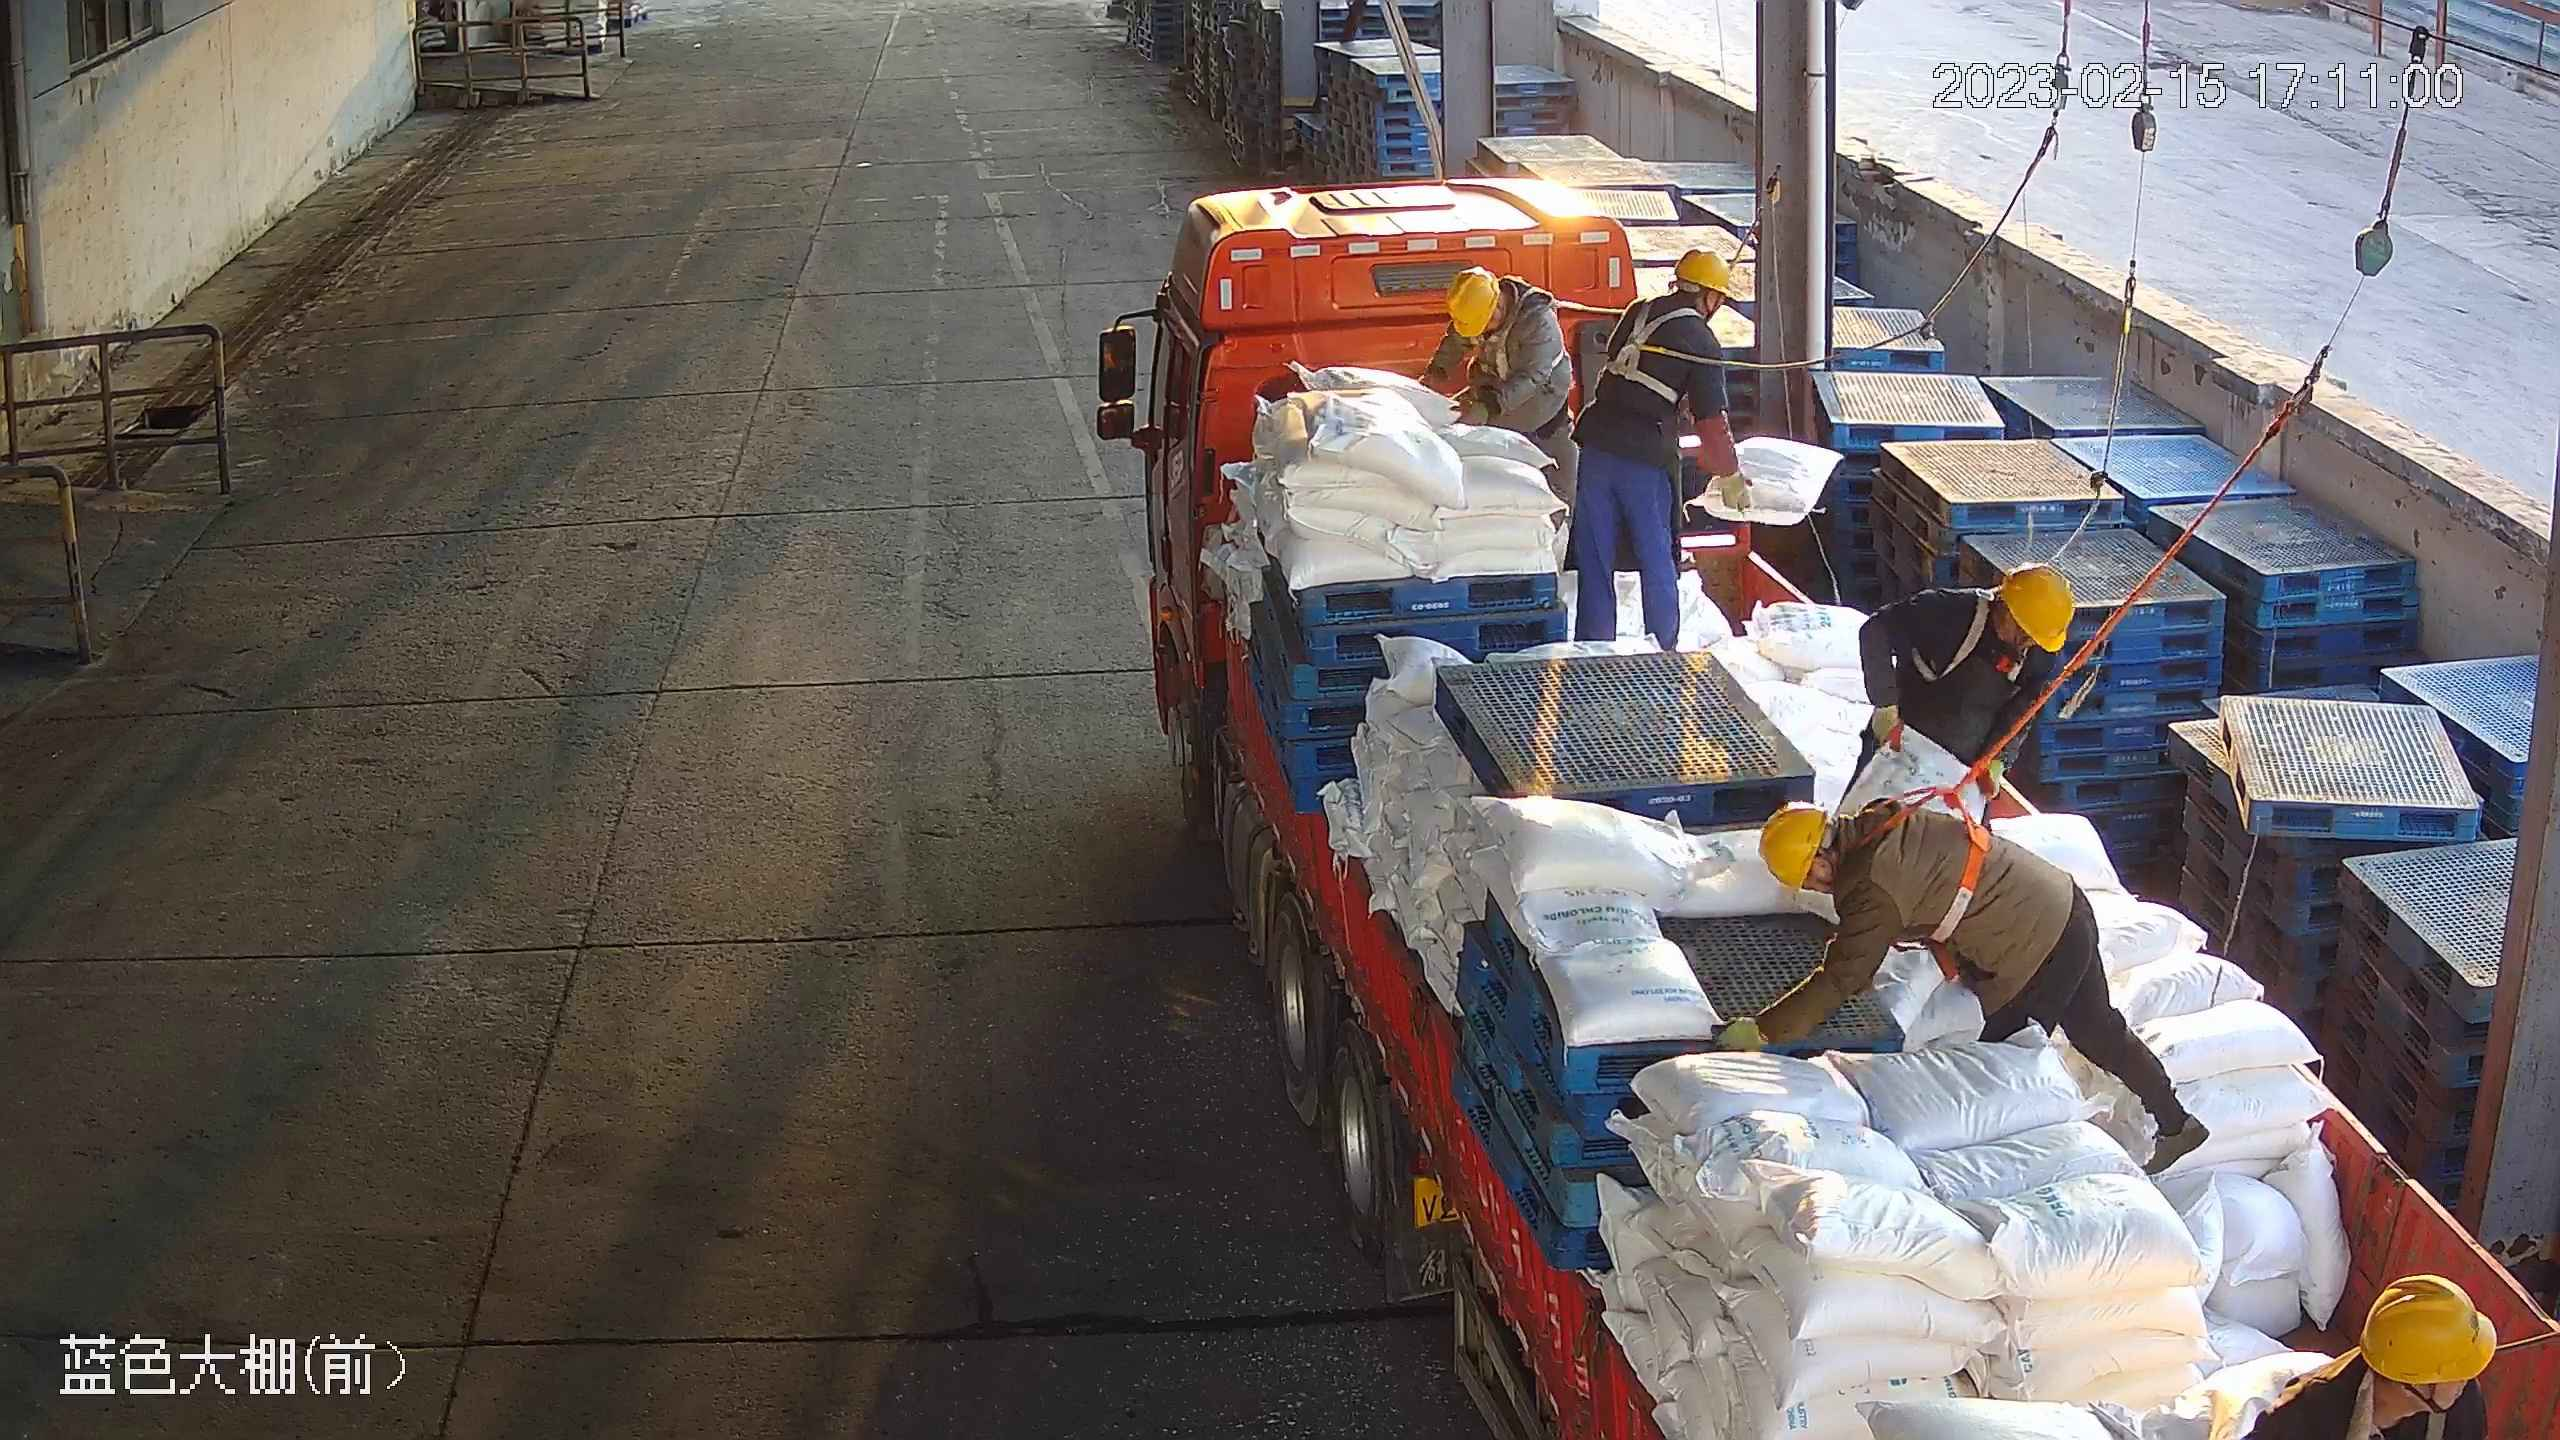belt: (1865, 777, 1994, 951), (1901, 590, 2039, 690), (1606, 302, 1699, 406), (2349, 1373, 2454, 1440), (1461, 342, 1544, 382)
head: (2246, 1270, 2499, 1440), (1759, 799, 1954, 973), (1899, 561, 2073, 708), (1623, 244, 1737, 383), (1439, 268, 1565, 385)
helmet: (2361, 1270, 2499, 1380), (1759, 806, 1827, 901), (2004, 563, 2065, 656), (1440, 268, 1501, 337), (1673, 247, 1730, 295)
people: (1713, 801, 2211, 1177), (1565, 252, 1756, 654), (1849, 564, 2077, 844), (1421, 266, 1578, 537)
truck: (1094, 177, 2560, 1440)
